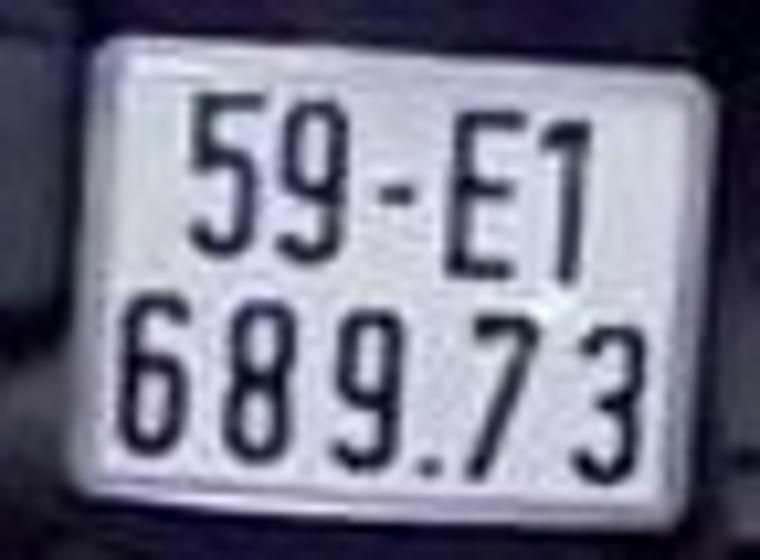-: (369, 176, 424, 216)
.: (420, 442, 449, 490)
1: (541, 112, 598, 297)
3: (577, 322, 645, 489)
5: (191, 87, 259, 261)
6: (123, 294, 210, 461)
7: (463, 309, 547, 483)
8: (214, 287, 302, 467)
9: (331, 291, 408, 476), (283, 101, 347, 264)
E: (446, 105, 528, 287)
